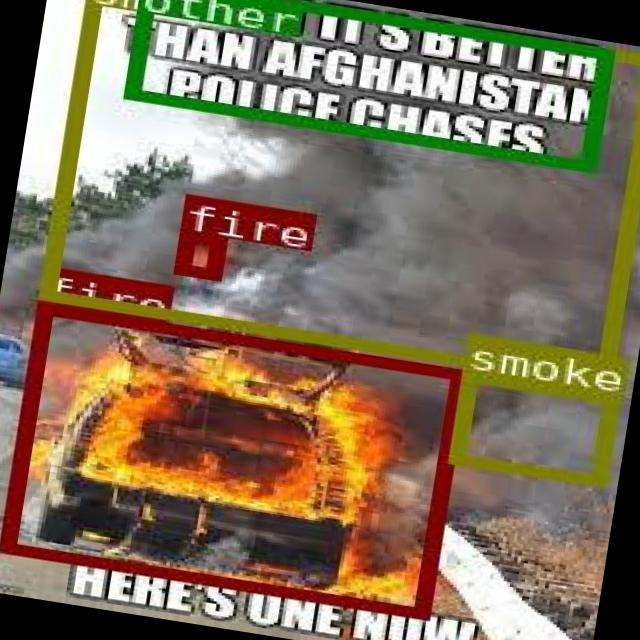fire: (0, 301, 463, 617), (171, 228, 224, 276)
smoke: (37, 0, 640, 386), (446, 368, 616, 486)
